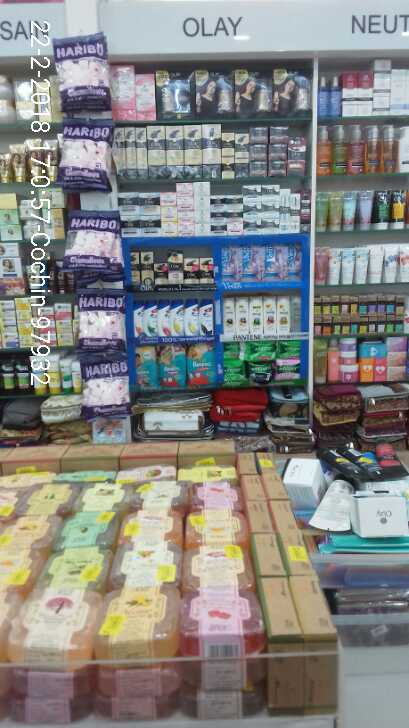venus: (220, 245, 242, 284), (284, 244, 302, 283), (242, 245, 262, 279), (262, 245, 280, 279)
